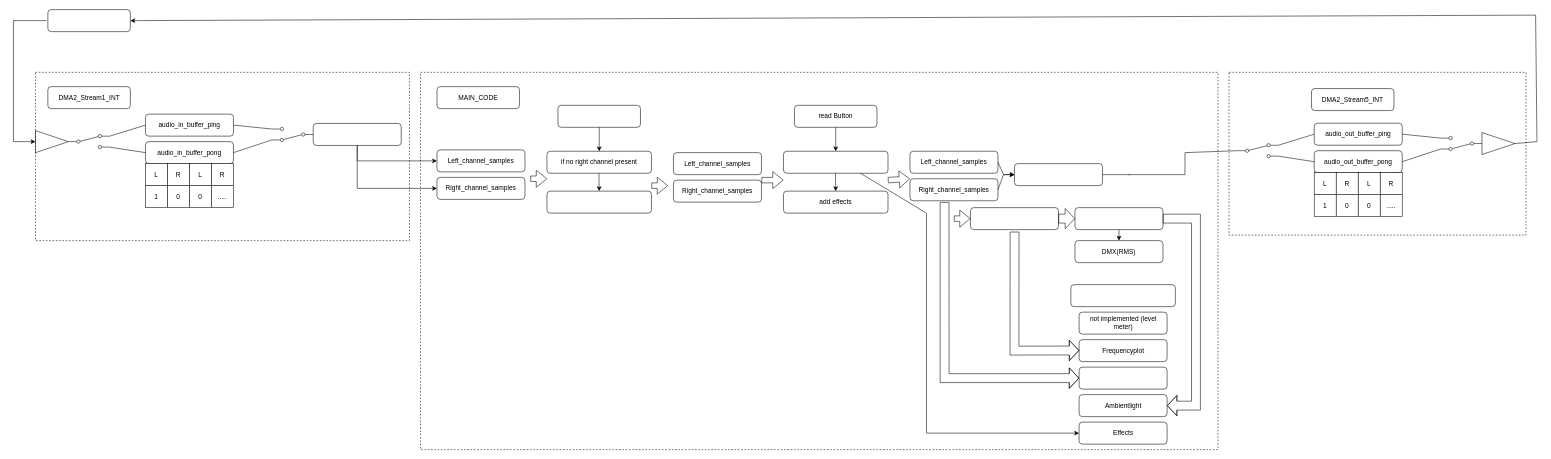
This 1551x459 diagram has some shape labels left out. Each missing label, with the box of its shape:
ADC_read_SW: (557, 105, 640, 127)
CODEC: (47, 9, 130, 32)
codec_update_out_buf: (1014, 163, 1102, 186)
DISPLAY: (1070, 284, 1175, 307)
FFT: (970, 207, 1058, 230)
if effect active: (783, 151, 888, 173)
mirror_lleft_channel: (546, 191, 651, 213)
Peaks & RMS calc: (1074, 207, 1163, 230)
split_and_cast: (313, 123, 401, 145)
Timesignal: (1079, 367, 1167, 389)
